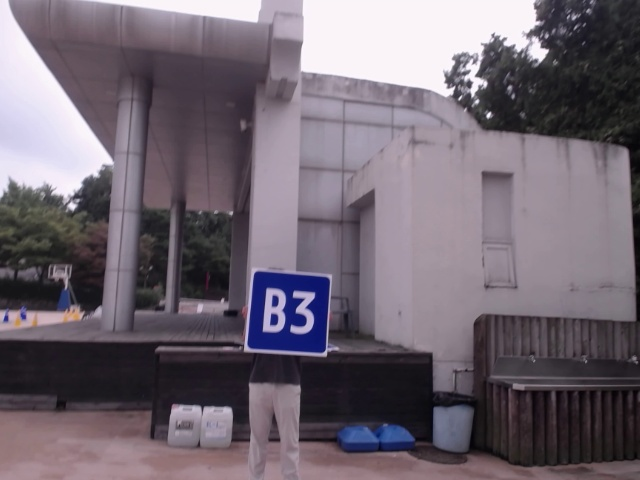delivery_b3: (248, 271, 329, 356)
